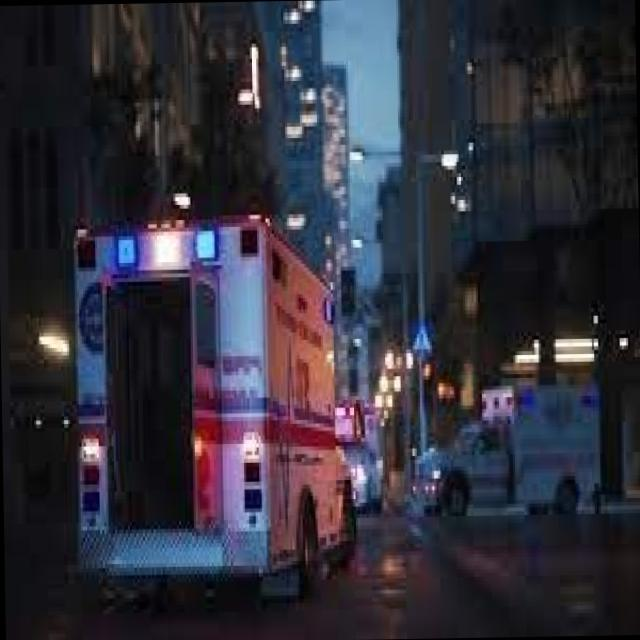ambulance: (49, 203, 372, 618)
